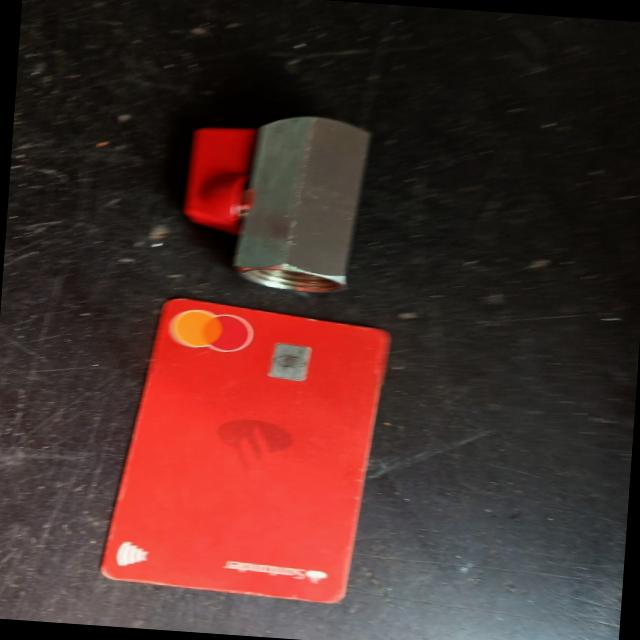cartao: (101, 292, 392, 606)
rosca_interna: (180, 108, 370, 296)
